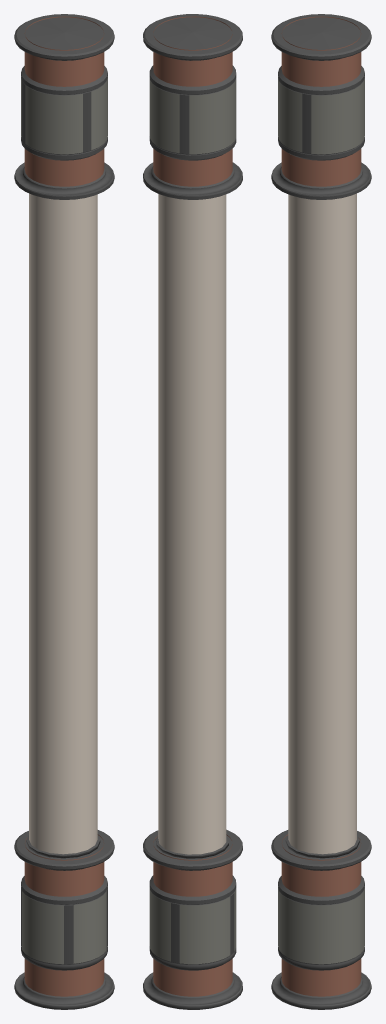
Rendered from column_solid_01.fbx.
3 renders of one model, left to right at view 1: azimuth 90°, elevation 25°; view 2: azimuth 150°, elevation 25°; view 3: azimuth 270°, elevation 25°, orthographic.
Visible parts, largest first — view 1: column_solid_01; view 2: column_solid_01; view 3: column_solid_01.
Part boxes in pixels (left/top/right/bottom): column_solid_01: left=14, top=14, right=114, bottom=1009; column_solid_01: left=143, top=14, right=242, bottom=1009; column_solid_01: left=271, top=14, right=371, bottom=1009.
Bounding box in the file's own units: 112 × 1183 × 112.
